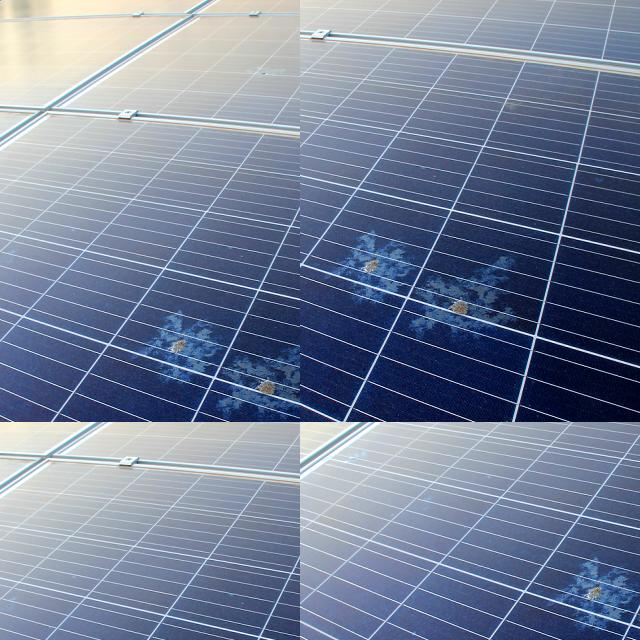bird: (300, 310, 465, 422), (556, 531, 627, 635), (300, 104, 371, 192), (300, 48, 343, 128)
hotspot: (55, 491, 98, 538), (12, 499, 48, 554), (37, 422, 87, 456), (6, 439, 36, 468), (0, 486, 17, 533), (0, 435, 14, 461), (0, 454, 13, 482), (0, 422, 22, 438), (33, 432, 51, 450), (0, 438, 12, 465), (47, 422, 66, 436), (0, 422, 11, 433)
shadow: (0, 18, 23, 53), (23, 35, 44, 66), (0, 47, 13, 94), (0, 46, 8, 93)
